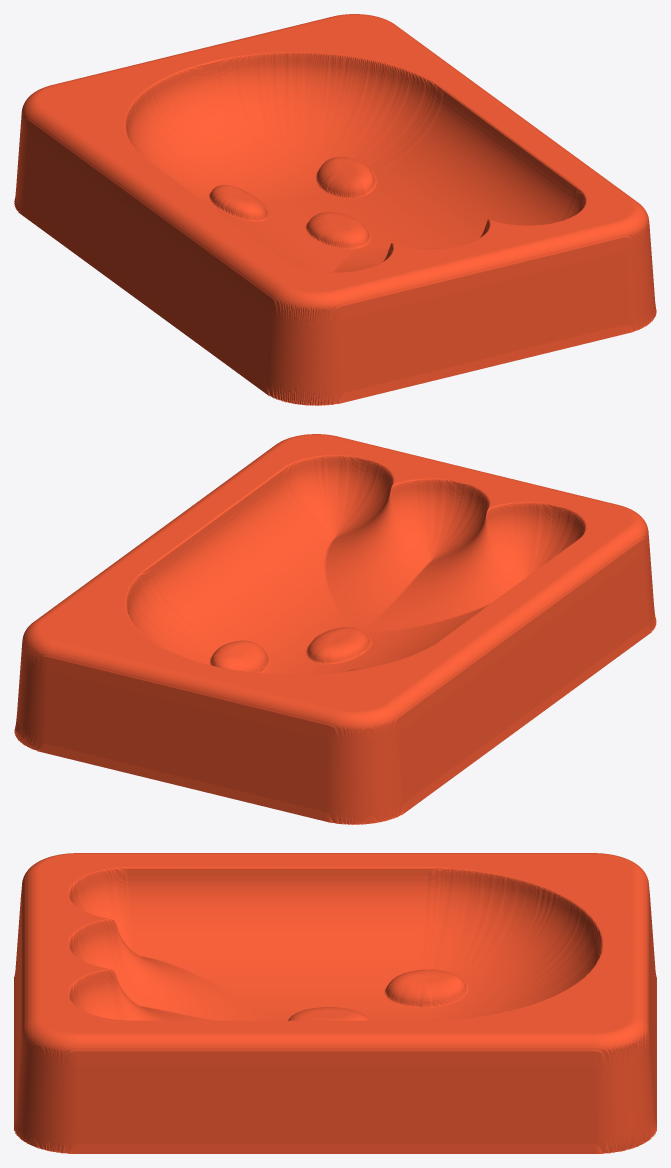
Rendered from mold.glb.
The picture shows the model from 3 angles, top to bottom: view 1: azimuth 30°, elevation 25°; view 2: azimuth 150°, elevation 25°; view 3: azimuth 270°, elevation 25°; orthographic projection. The views are drawn at different scales.
Visible parts, largest first — view 1: geometry_0; view 2: geometry_0; view 3: geometry_0.
Boxes of the visible parts, x1,y1,x2,y2 form: geometry_0: [14, 14, 656, 405]; geometry_0: [14, 434, 656, 824]; geometry_0: [14, 853, 656, 1153].
Bounding box in the file's own units: 0.0678 × 0.0175 × 0.0924.
